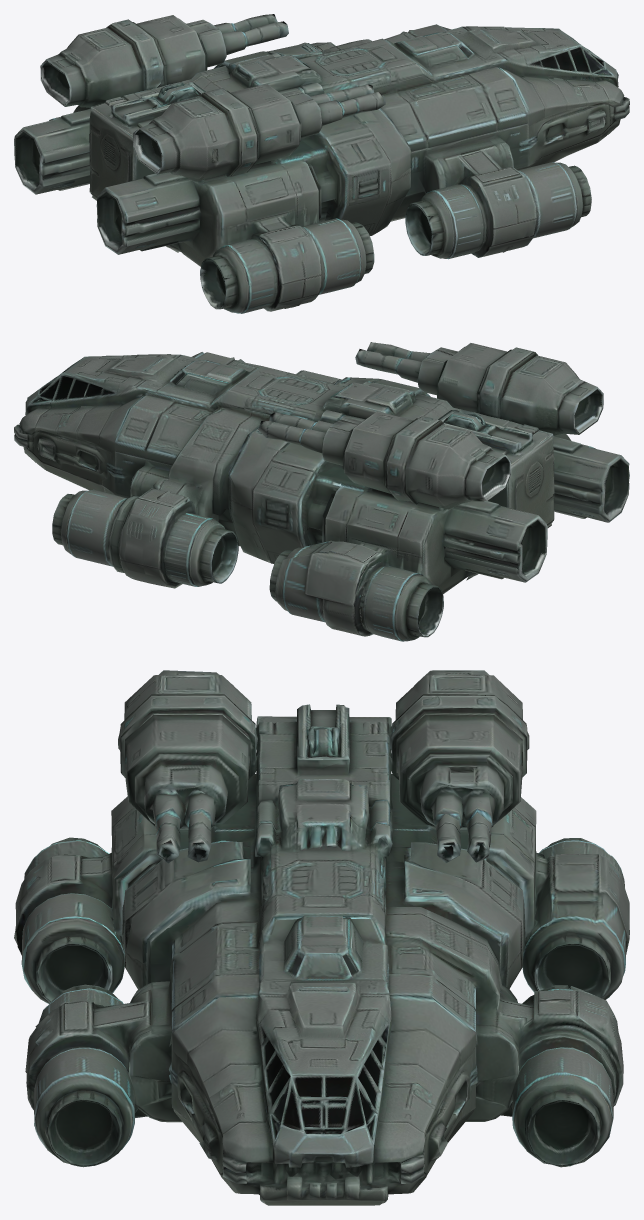
Rendered from Nave12.glb.
3 views of the same model, one above another, from view 1: azimuth 30°, elevation 25°; view 2: azimuth 150°, elevation 25°; view 3: azimuth 270°, elevation 25° (orthographic). The views are drawn at different scales.
Visible parts, largest first — view 1: tripo_node_0e74fde0-7279-4d70-beeb-c2a0154dd856; view 2: tripo_node_0e74fde0-7279-4d70-beeb-c2a0154dd856; view 3: tripo_node_0e74fde0-7279-4d70-beeb-c2a0154dd856.
Boxes of the visible parts, x1=… form: tripo_node_0e74fde0-7279-4d70-beeb-c2a0154dd856: x1=14, y1=14, x2=629, y2=313; tripo_node_0e74fde0-7279-4d70-beeb-c2a0154dd856: x1=14, y1=342, x2=629, y2=641; tripo_node_0e74fde0-7279-4d70-beeb-c2a0154dd856: x1=14, y1=670, x2=629, y2=1205.
Bounding box in the file's own units: 0.9823 × 0.3211 × 0.6704.
1 material, 1 textured.
